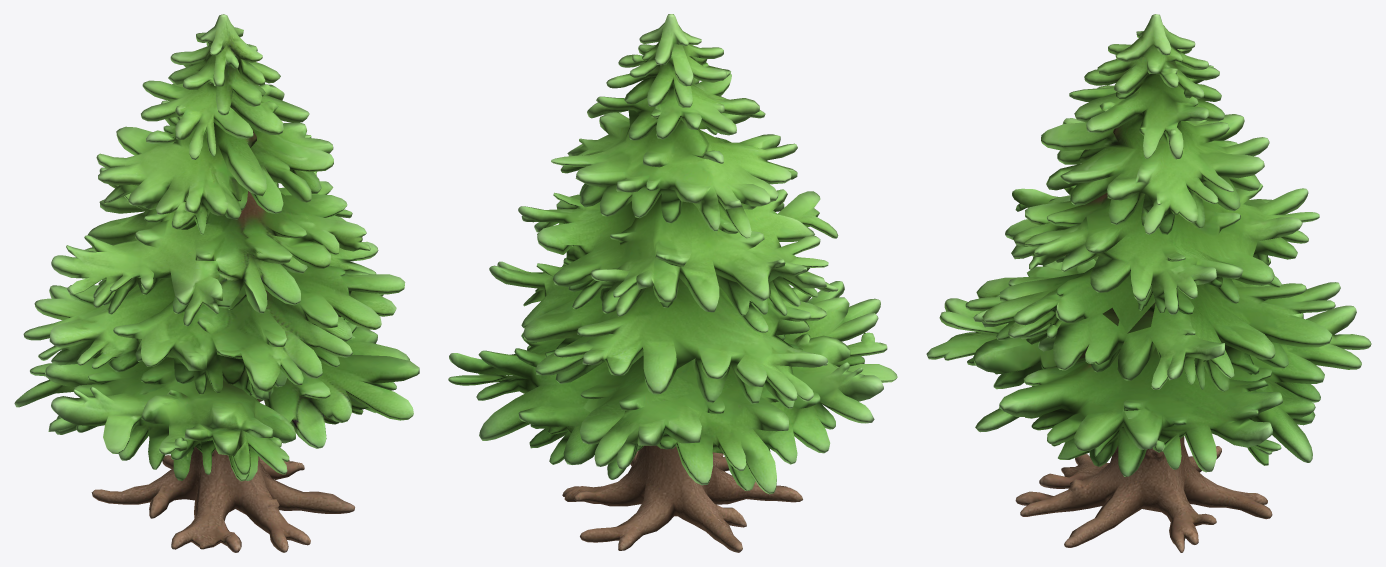
Rendered from Fir_Tripo_A.fbx.
3 renders of one model, left to right at view 1: azimuth 30°, elevation 25°; view 2: azimuth 150°, elevation 25°; view 3: azimuth 270°, elevation 25°, orthographic.
Parts seen in each view (by area): view 1: Fir_Tripo_A; view 2: Fir_Tripo_A; view 3: Fir_Tripo_A.
Part boxes in pixels (x1,y1,x2,y2): Fir_Tripo_A: (14,14,419,552); Fir_Tripo_A: (448,14,897,552); Fir_Tripo_A: (926,14,1371,552).
Size of the model in its own units: 2.35 by 3.1 by 2.53.
2 materials, 2 textured.
